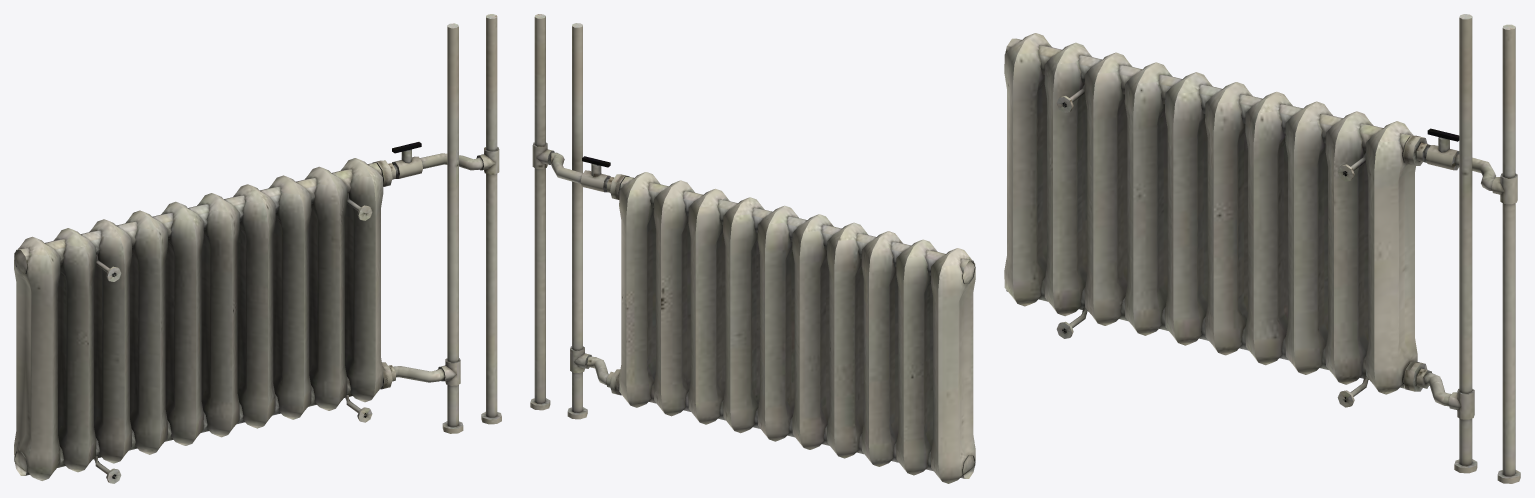
File: rad_10_two_pipe_lod1_web.glb
3 views of the same model, side by side, from view 1: azimuth 30°, elevation 25°; view 2: azimuth 150°, elevation 25°; view 3: azimuth 330°, elevation 25° (orthographic). The views are drawn at different scales.
Visible parts, largest first — view 1: Rad10TwoPipe_Body; view 2: Rad10TwoPipe_Body; view 3: Rad10TwoPipe_Body.
Boxes of the visible parts, x1,y1,x2,y2 form: Rad10TwoPipe_Body: (14, 14, 501, 483); Rad10TwoPipe_Body: (530, 14, 975, 483); Rad10TwoPipe_Body: (1004, 14, 1520, 483).
Bounding box in the file's own units: 1.21 × 1 × 0.175.
Materials: 1 (1 with a texture image).
